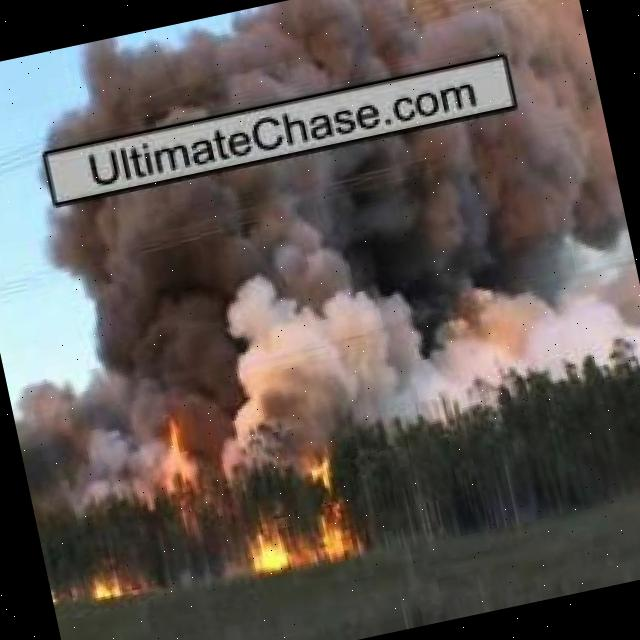fire: (231, 441, 362, 578), (151, 397, 205, 507), (90, 552, 132, 602)
